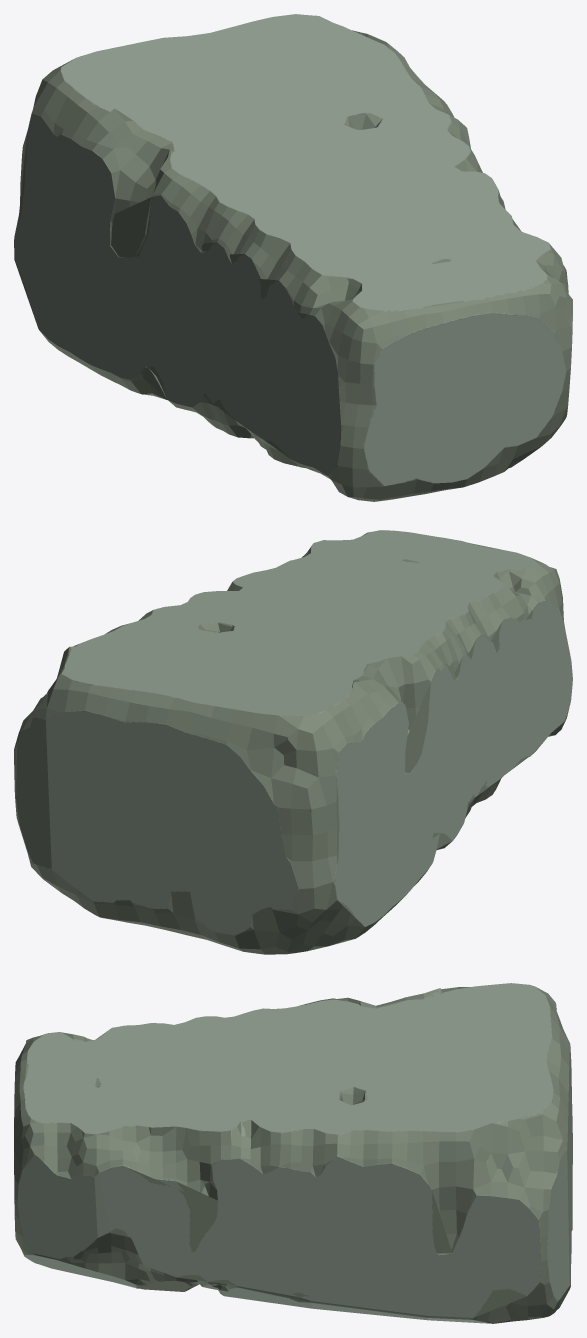
Rendered from blockB_1.fbx.
The picture shows the model from 3 angles, top to bottom: view 1: azimuth 30°, elevation 25°; view 2: azimuth 150°, elevation 25°; view 3: azimuth 270°, elevation 25°; orthographic projection. The views are drawn at different scales.
Parts seen in each view (by area): view 1: blockB_1; view 2: blockB_1; view 3: blockB_1.
Part boxes in pixels (x1,y1,x2,y2): blockB_1: (14, 14, 572, 501); blockB_1: (14, 530, 572, 954); blockB_1: (14, 983, 572, 1323).
Bounding box in the file's own units: 350 × 246 × 535.
